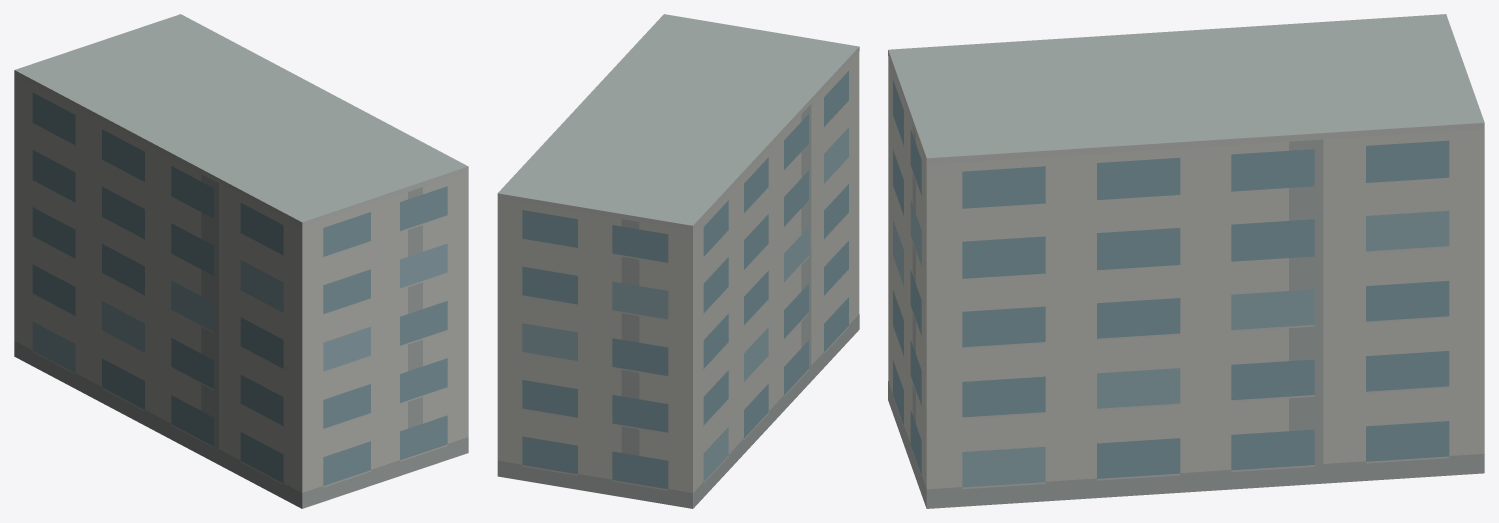
File: survey-upis-32575389.glb
3 renders of one model, left to right at view 1: azimuth 30°, elevation 25°; view 2: azimuth 150°, elevation 25°; view 3: azimuth 270°, elevation 25°, orthographic. The views are drawn at different scales.
Parts seen in each view (by area): view 1: survey-upis-32575389.tmp; view 2: survey-upis-32575389.tmp; view 3: survey-upis-32575389.tmp.
Boxes of the visible parts, box(x1,y1,x2,y2) form: survey-upis-32575389.tmp: box(14, 14, 468, 508); survey-upis-32575389.tmp: box(497, 14, 859, 508); survey-upis-32575389.tmp: box(888, 14, 1484, 508).
Size of the model in its own units: 11.84 by 13.4 by 20.68.
